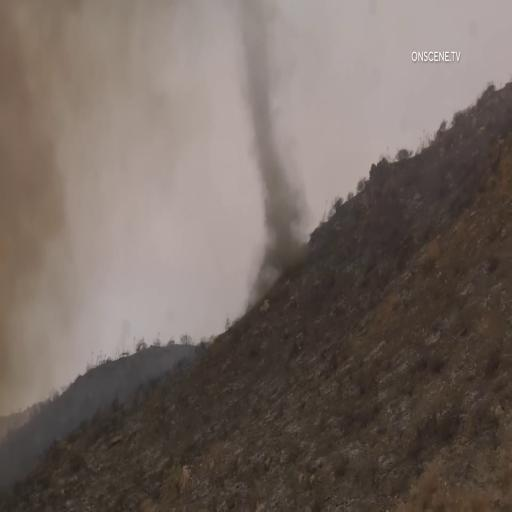smoke: (0, 50, 118, 324)
